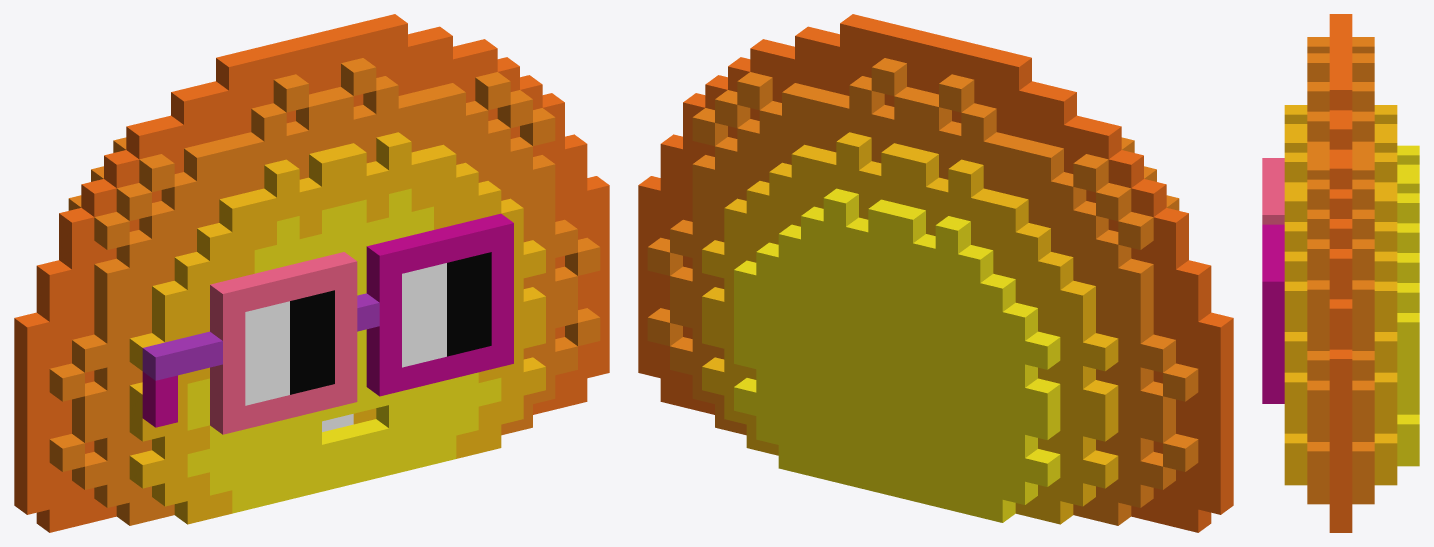
File: sunHeadNoBound.glb
The picture shows the model from 3 angles, left to right: view 1: azimuth 30°, elevation 25°; view 2: azimuth 150°, elevation 25°; view 3: azimuth 270°, elevation 25°; orthographic projection. The views are drawn at different scales.
Visible parts, largest first — view 1: Sun, GlassesUV; view 2: Sun; view 3: Sun, GlassesUV.
Part boxes in pixels (x1=…): Sun: x1=14, y1=14, x2=609, y2=532; GlassesUV: x1=142, y1=213, x2=513, y2=434; Sun: x1=638, y1=14, x2=1233, y2=532; Sun: x1=1284, y1=14, x2=1419, y2=532; GlassesUV: x1=1262, y1=158, x2=1284, y2=403.
Bounding box in the file's own units: 26 × 18 × 7.
2 materials, 2 textured.
